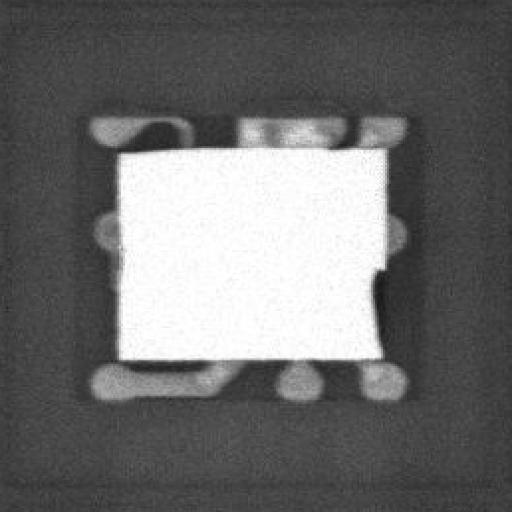DIE_BROKEN: (367, 266, 383, 338)
